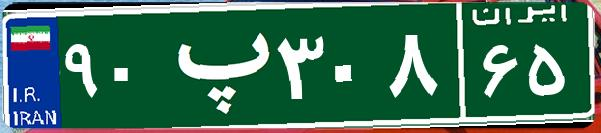0: (330, 28, 385, 110), (110, 28, 158, 105)
3: (273, 28, 330, 110)
5: (525, 38, 570, 115)
6: (475, 38, 525, 113)
8: (385, 28, 445, 110)
9: (57, 26, 110, 107)
پ: (158, 15, 273, 115)
